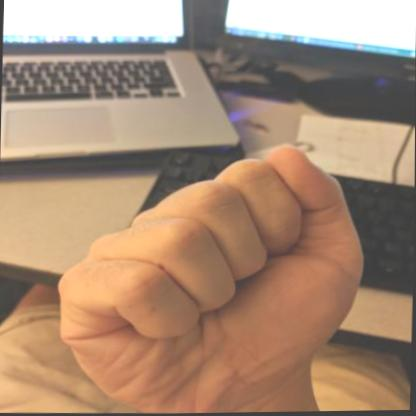A: (45, 135, 374, 415)
